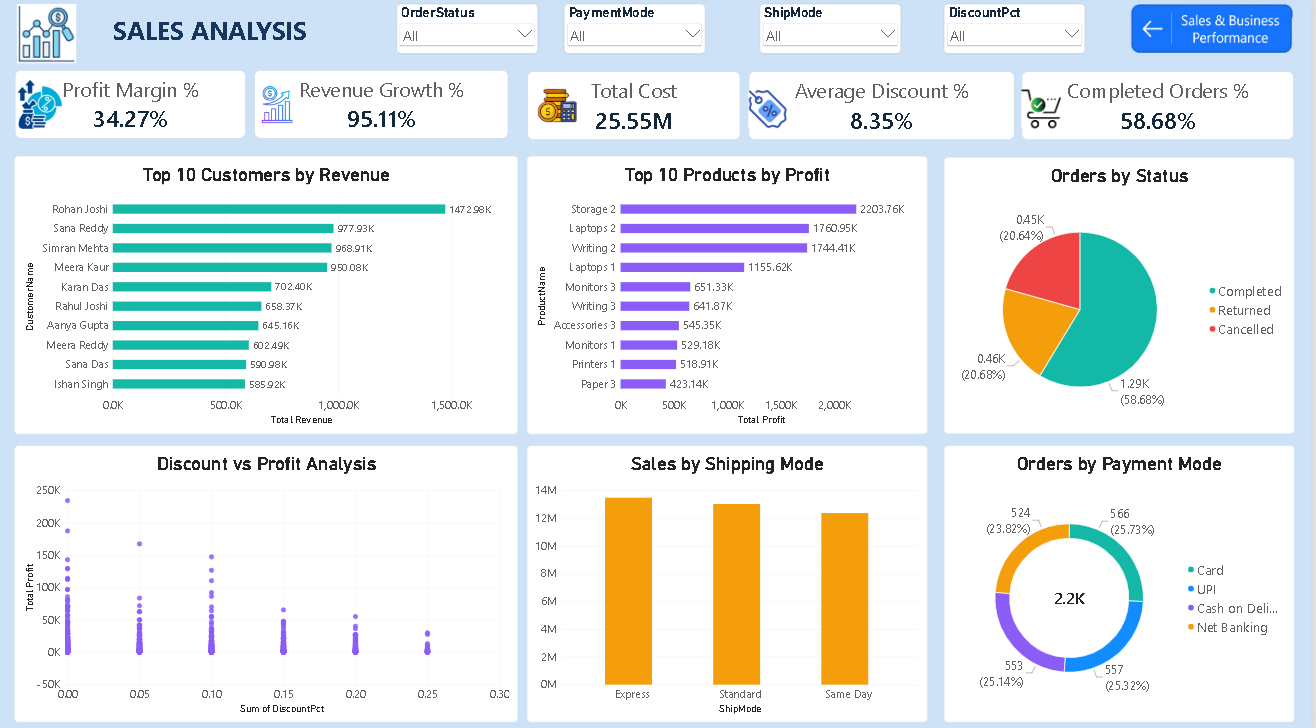

This screenshot's page, from the dashboard's own definition file:
{"tool":"powerbi","page":{"name":"Sales Analysis","canvas":[2560,1440],"ordinal":1},"visuals":[{"type":"textbox","box":[211,35.2,417,95.5],"z":0},{"type":"cardVisual","fields":{"Data":["_Measures.Profit Margin %"]},"box":[30.1,145.7,452.2,135.7],"z":1000},{"type":"cardVisual","fields":{"Data":["_Measures.Revenue Growth %"]},"box":[497.4,145.7,497.4,135.7],"z":2000},{"type":"cardVisual","fields":{"Data":["_Measures.Total Cost"]},"box":[1030.1,148.2,417,135.7],"z":3000},{"type":"cardVisual","fields":{"Data":["_Measures.Average Discount %"]},"box":[1462.2,148.2,510,135.7],"z":4000},{"type":"cardVisual","fields":{"Data":["_Measures.Completed Orders %"]},"box":[1994.8,148.2,532.6,135.7],"z":5000},{"type":"clusteredBarChart","title":"Top 10 Customers by Revenue","fields":{"Category":["tbl_Customers.CustomerName"],"Y":["_Measures.Total Revenue"]},"box":[30.1,314,964.7,542.7],"z":6000},{"type":"clusteredBarChart","title":"Top 10 Products by Profit","fields":{"Category":["tbl_Products.ProductName"],"Y":["_Measures.Total Profit"]},"box":[1030.1,314,781.3,542.7],"z":7000},{"type":"scatterChart","title":"Discount vs Profit Analysis","fields":{"Category":["tbl_Orders.OrderID"],"X":["Sum(tbl_Orders.DiscountPct)"],"Y":["_Measures.Total Profit"]},"box":[30.1,879.3,964.7,540.2],"z":8000},{"type":"donutChart","title":"Orders by Status","fields":{"Category":["tbl_Orders.OrderStatus"],"Y":["CountNonNull(tbl_Orders.OrderID)"]},"box":[1844.1,316.6,683.4,540.2],"z":9000},{"type":"clusteredColumnChart","title":"Sales by Shipping Mode","fields":{"Category":["tbl_Orders.ShipMode"],"Y":["_Measures.Total Revenue"]},"box":[1030.1,879.3,781.3,540.2],"z":10000},{"type":"donutChart","title":"Orders by Payment Mode","fields":{"Category":["tbl_Orders.PaymentMode"],"Y":["Count(tbl_Orders.OrderID)"]},"box":[1844.1,879.3,683.4,540.2],"z":11000},{"type":"slicer","fields":{"Values":["tbl_Orders.OrderStatus"]},"box":[776.3,17.6,274.8,95.9],"z":12000},{"type":"slicer","fields":{"Values":["tbl_Orders.ShipMode"]},"box":[1484.8,17.6,274.8,95.9],"z":14000},{"type":"slicer","fields":{"Values":["tbl_Orders.DiscountPct"]},"box":[1844.1,17.6,274.8,95.9],"z":15000},{"type":"image","box":[0,17.6,185.9,115.6],"z":16000},{"type":"image","box":[2205.8,17.6,321.6,95.5],"z":17000},{"type":"image","box":[30.1,165.8,100.5,95.5],"z":18000},{"type":"image","box":[512.5,160.8,60.3,105.5],"z":19000},{"type":"image","box":[1050.2,165.8,90.4,98],"z":20000},{"type":"image","box":[1462.2,173.4,93,82.9],"z":21000},{"type":"image","box":[1994.8,183.4,93,77.9],"z":22000},{"type":"slicer","fields":{"Values":["tbl_Orders.PaymentMode"]},"box":[1102.9,17.6,274.8,95.9],"z":22001}]}

Visuals, with their boxes in screenshot pixels (x1, y1, x2, y2), scaled from the page's 2560x1440 canvas onto the 1316x728 screenshot:
textbox: x1=108, y1=18, x2=323, y2=66
cardVisual - _Measures.Profit Margin %: x1=15, y1=74, x2=248, y2=142
cardVisual - _Measures.Revenue Growth %: x1=256, y1=74, x2=511, y2=142
cardVisual - _Measures.Total Cost: x1=530, y1=75, x2=744, y2=144
cardVisual - _Measures.Average Discount %: x1=752, y1=75, x2=1014, y2=144
cardVisual - _Measures.Completed Orders %: x1=1025, y1=75, x2=1299, y2=144
"Top 10 Customers by Revenue" clusteredBarChart: x1=15, y1=159, x2=511, y2=433
"Top 10 Products by Profit" clusteredBarChart: x1=530, y1=159, x2=931, y2=433
"Discount vs Profit Analysis" scatterChart: x1=15, y1=445, x2=511, y2=718
"Orders by Status" donutChart: x1=948, y1=160, x2=1299, y2=433
"Sales by Shipping Mode" clusteredColumnChart: x1=530, y1=445, x2=931, y2=718
"Orders by Payment Mode" donutChart: x1=948, y1=445, x2=1299, y2=718
slicer - tbl_Orders.OrderStatus: x1=399, y1=9, x2=540, y2=57
slicer - tbl_Orders.ShipMode: x1=763, y1=9, x2=905, y2=57
slicer - tbl_Orders.DiscountPct: x1=948, y1=9, x2=1089, y2=57
image: x1=0, y1=9, x2=96, y2=67
image: x1=1134, y1=9, x2=1299, y2=57
image: x1=15, y1=84, x2=67, y2=132
image: x1=263, y1=81, x2=294, y2=135
image: x1=540, y1=84, x2=586, y2=133
image: x1=752, y1=88, x2=799, y2=130
image: x1=1025, y1=93, x2=1073, y2=132
slicer - tbl_Orders.PaymentMode: x1=567, y1=9, x2=708, y2=57
